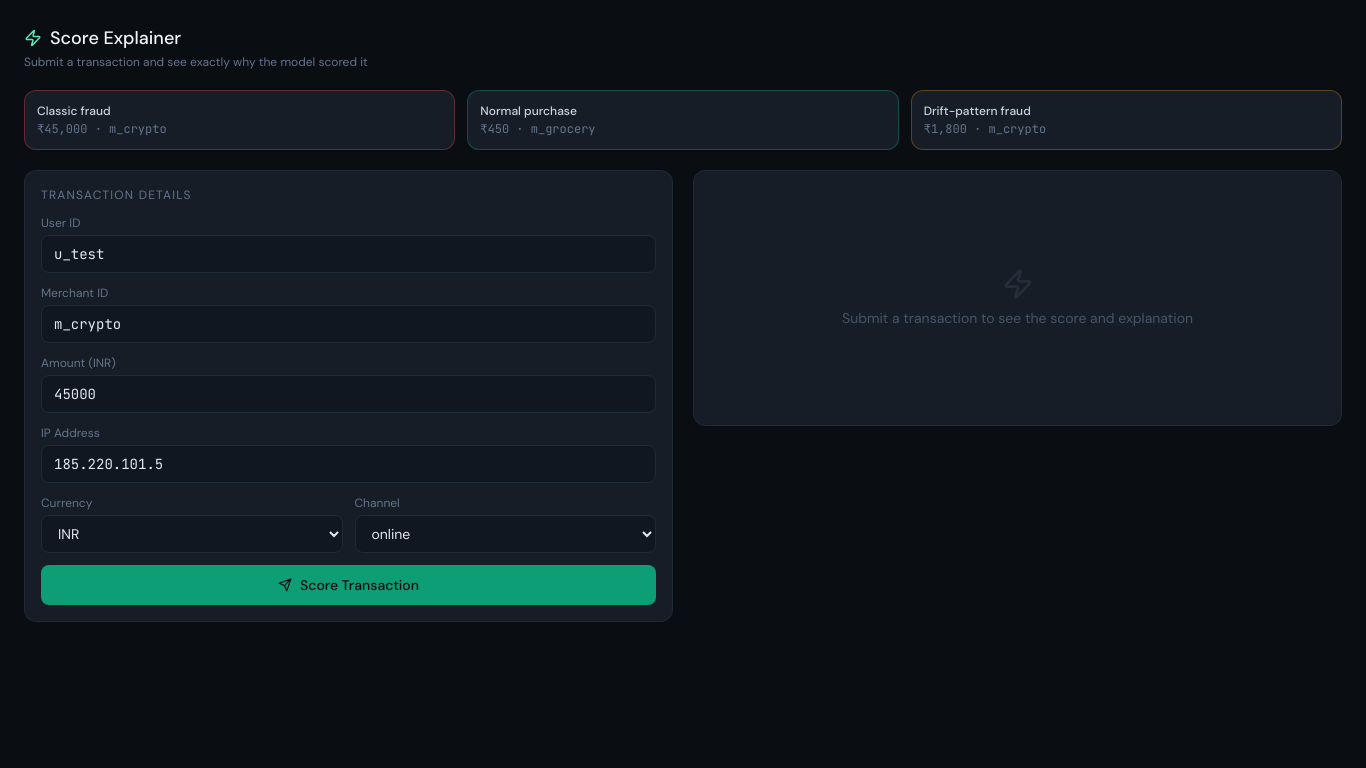
Scenario: ScoreExplainer › applies Drift-pattern fraud preset when clicked
What coordinates should you click on to do the following:
click the text "Drift-pattern fraud"
I would click on:
 (977, 111)
Its box is [924,103,1031,119].
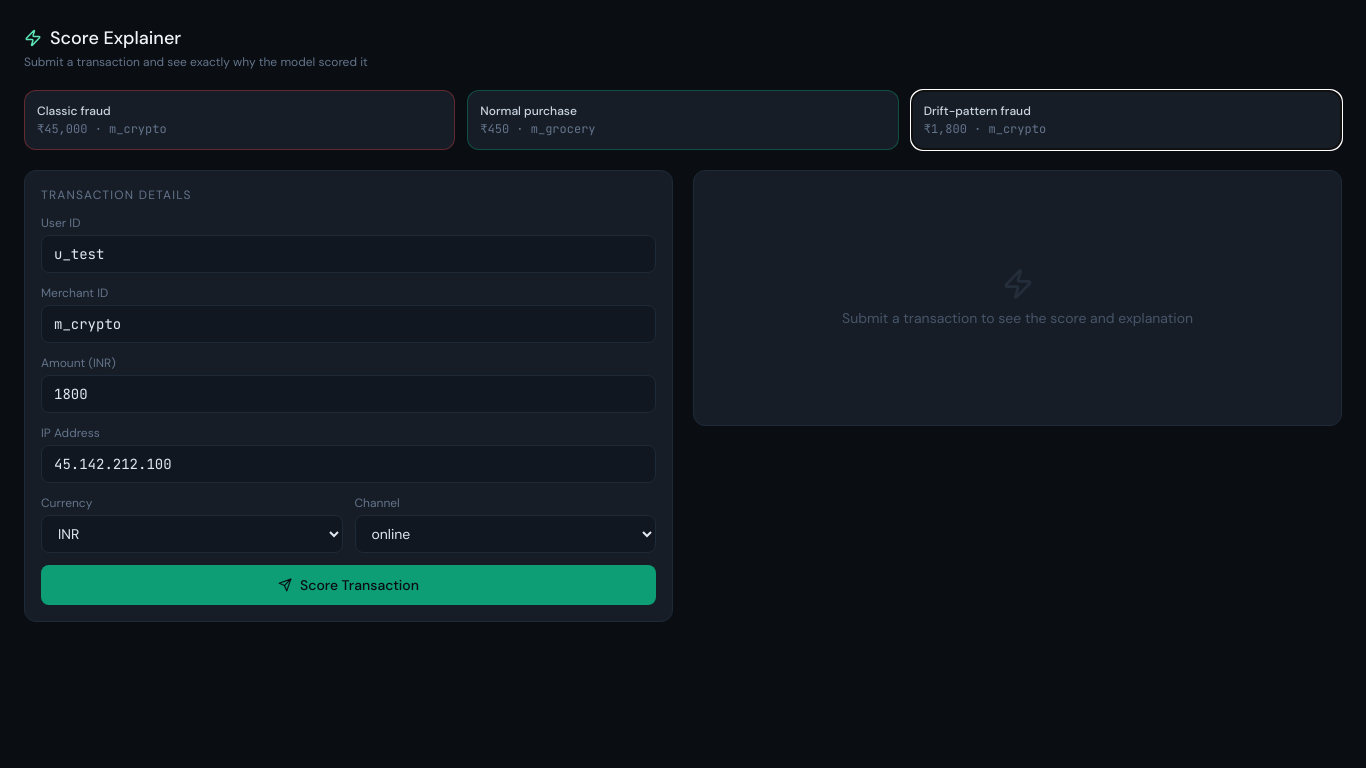
Expected: the number field showing "1800" is shown, [41,375,656,413]
